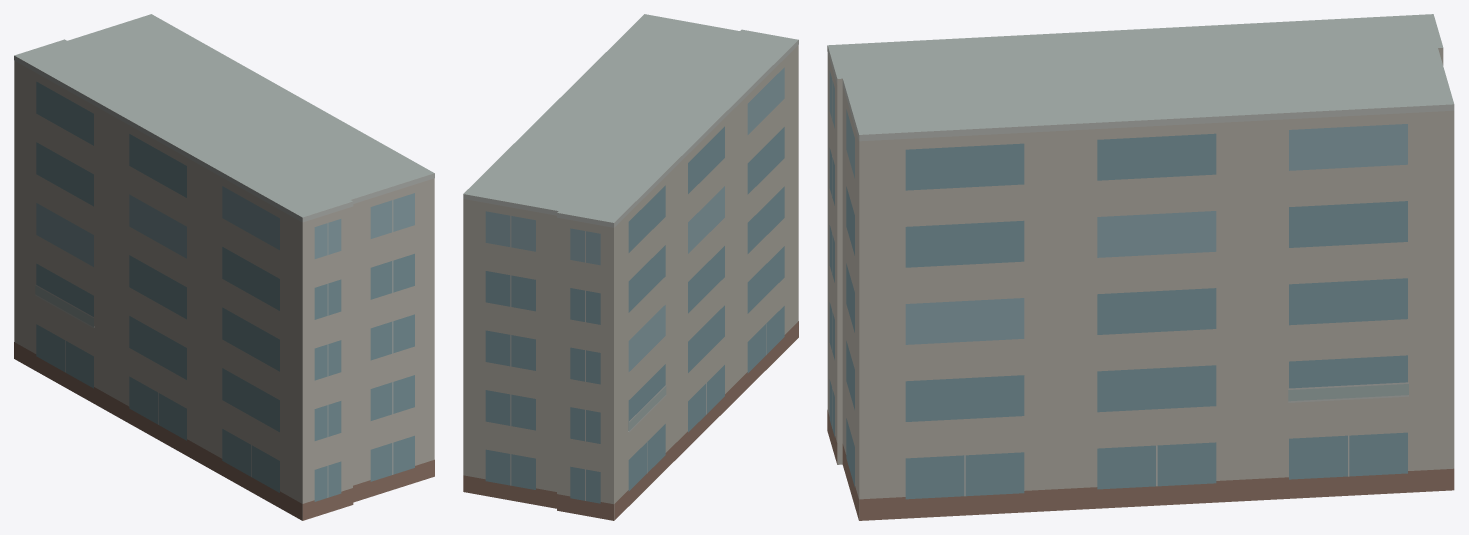
Rendered from survey-upis-32918649.glb.
The picture shows the model from 3 angles, left to right: view 1: azimuth 30°, elevation 25°; view 2: azimuth 150°, elevation 25°; view 3: azimuth 270°, elevation 25°; orthographic projection. The views are drawn at different scales.
Visible parts, largest first — view 1: survey-upis-32918649.tmp; view 2: survey-upis-32918649.tmp; view 3: survey-upis-32918649.tmp.
Boxes of the visible parts, <box> form: survey-upis-32918649.tmp: <box>14,14,434,520</box>; survey-upis-32918649.tmp: <box>463,14,798,520</box>; survey-upis-32918649.tmp: <box>827,14,1454,520</box>.
Bounding box in the file's own units: 10.03 × 14.9 × 21.94.
